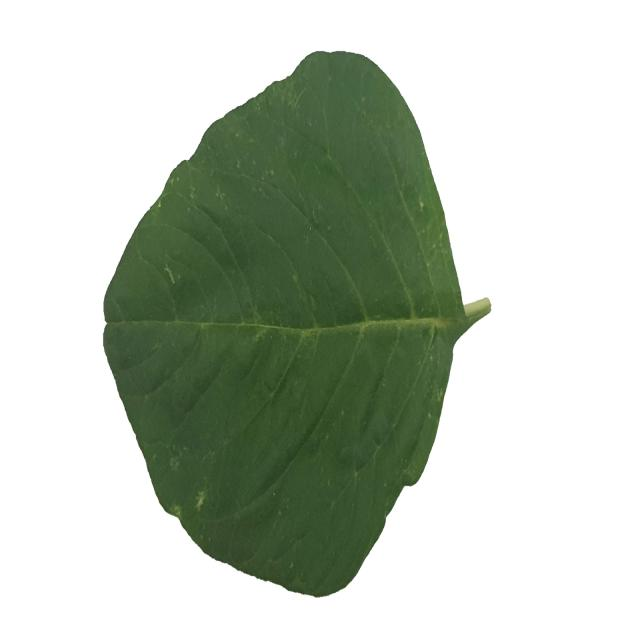Medicinal-Arive Dantu: (95, 45, 493, 596)
